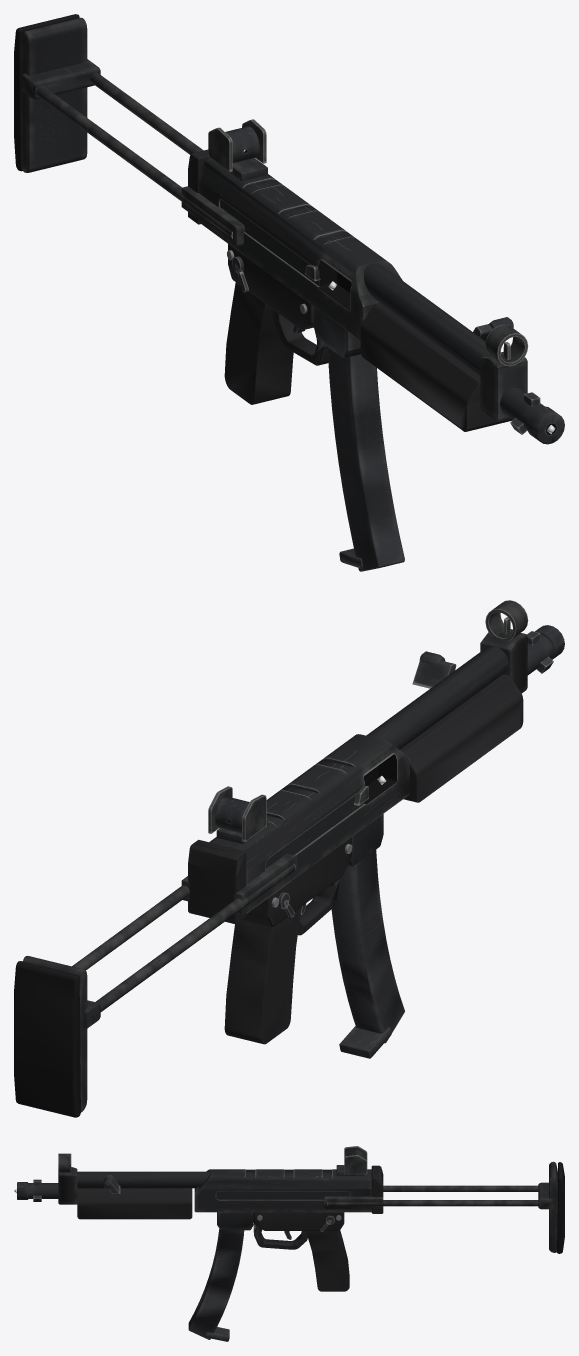
The model's file is SMG_A_MP5.fbx.
The picture shows the model from 3 angles, top to bottom: view 1: azimuth 30°, elevation 25°; view 2: azimuth 150°, elevation 25°; view 3: azimuth 270°, elevation 25°; orthographic projection. The views are drawn at different scales.
Visible parts, largest first — view 1: Handle, Magazine; view 2: Handle, Magazine, Bolt; view 3: Handle, Magazine.
Boxes of the visible parts, bbox=[...] form: Handle: bbox=[14, 14, 564, 444]; Magazine: bbox=[327, 347, 404, 571]; Handle: bbox=[14, 600, 564, 1117]; Magazine: bbox=[331, 850, 404, 1058]; Bolt: bbox=[412, 651, 456, 688]; Handle: bbox=[17, 1146, 564, 1291]; Magazine: bbox=[188, 1229, 244, 1341].
Bounding box in the file's own units: 0.2027 × 0.8668 × 2.31.
Materials: 2 (1 with a texture image).
